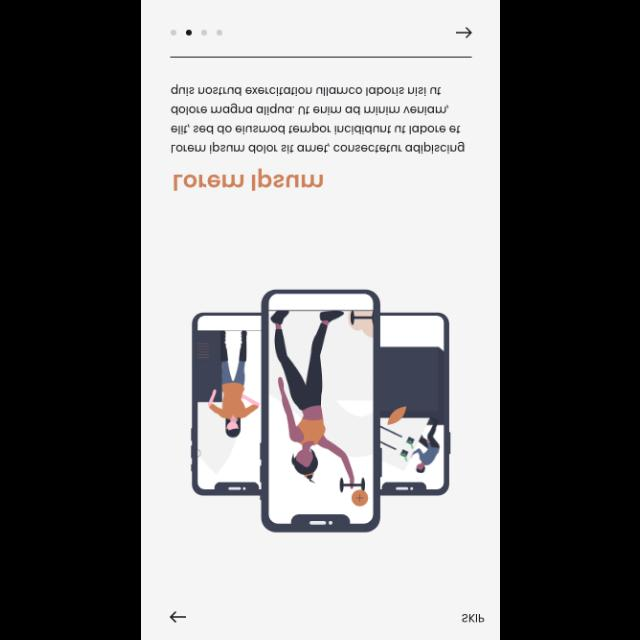icon: (455, 26, 473, 40), (169, 610, 187, 622)
image: (190, 289, 452, 531)
pageindicator: (170, 29, 223, 36)
text: (170, 84, 466, 154), (173, 168, 323, 190), (461, 612, 485, 622)
